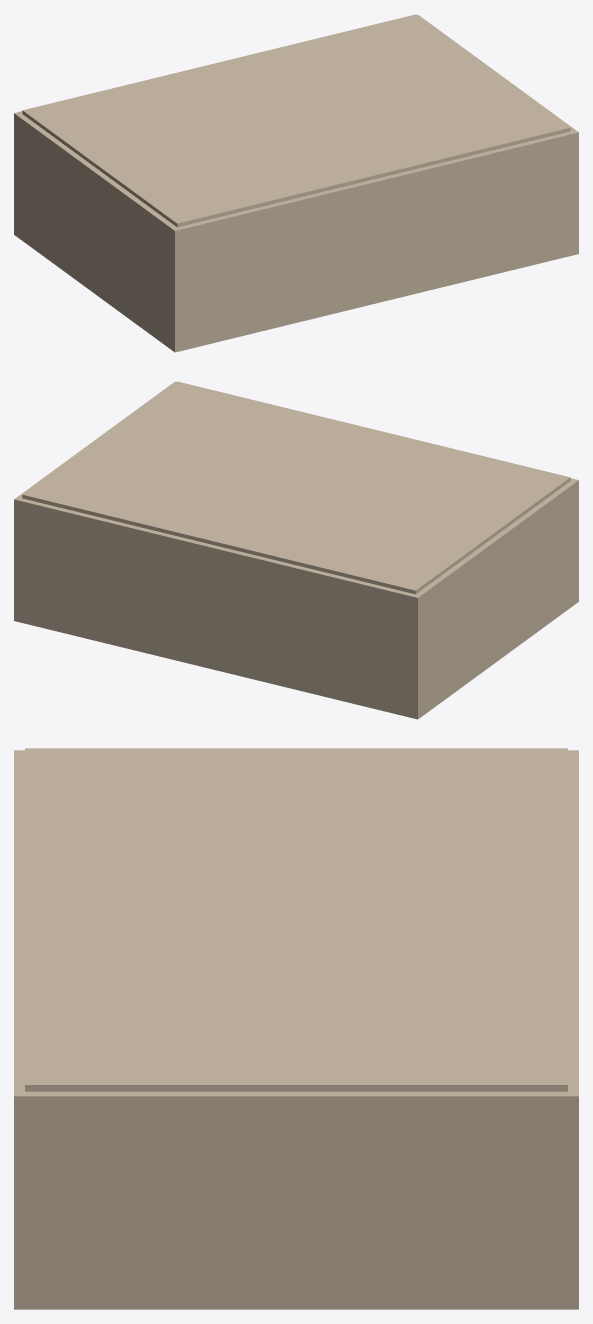
The model's file is hall.glb.
3 renders of one model, top to bottom at view 1: azimuth 30°, elevation 25°; view 2: azimuth 150°, elevation 25°; view 3: azimuth 270°, elevation 25°, orthographic. The views are drawn at different scales.
Visible parts, largest first — view 1: Plaster; view 2: Plaster; view 3: Plaster.
Part boxes in pixels (bbox=[...]): Plaster: bbox=[14, 14, 578, 352]; Plaster: bbox=[14, 381, 578, 719]; Plaster: bbox=[14, 748, 578, 1309].
Size of the model in its own units: 22.6 by 6.7 by 15.6.
